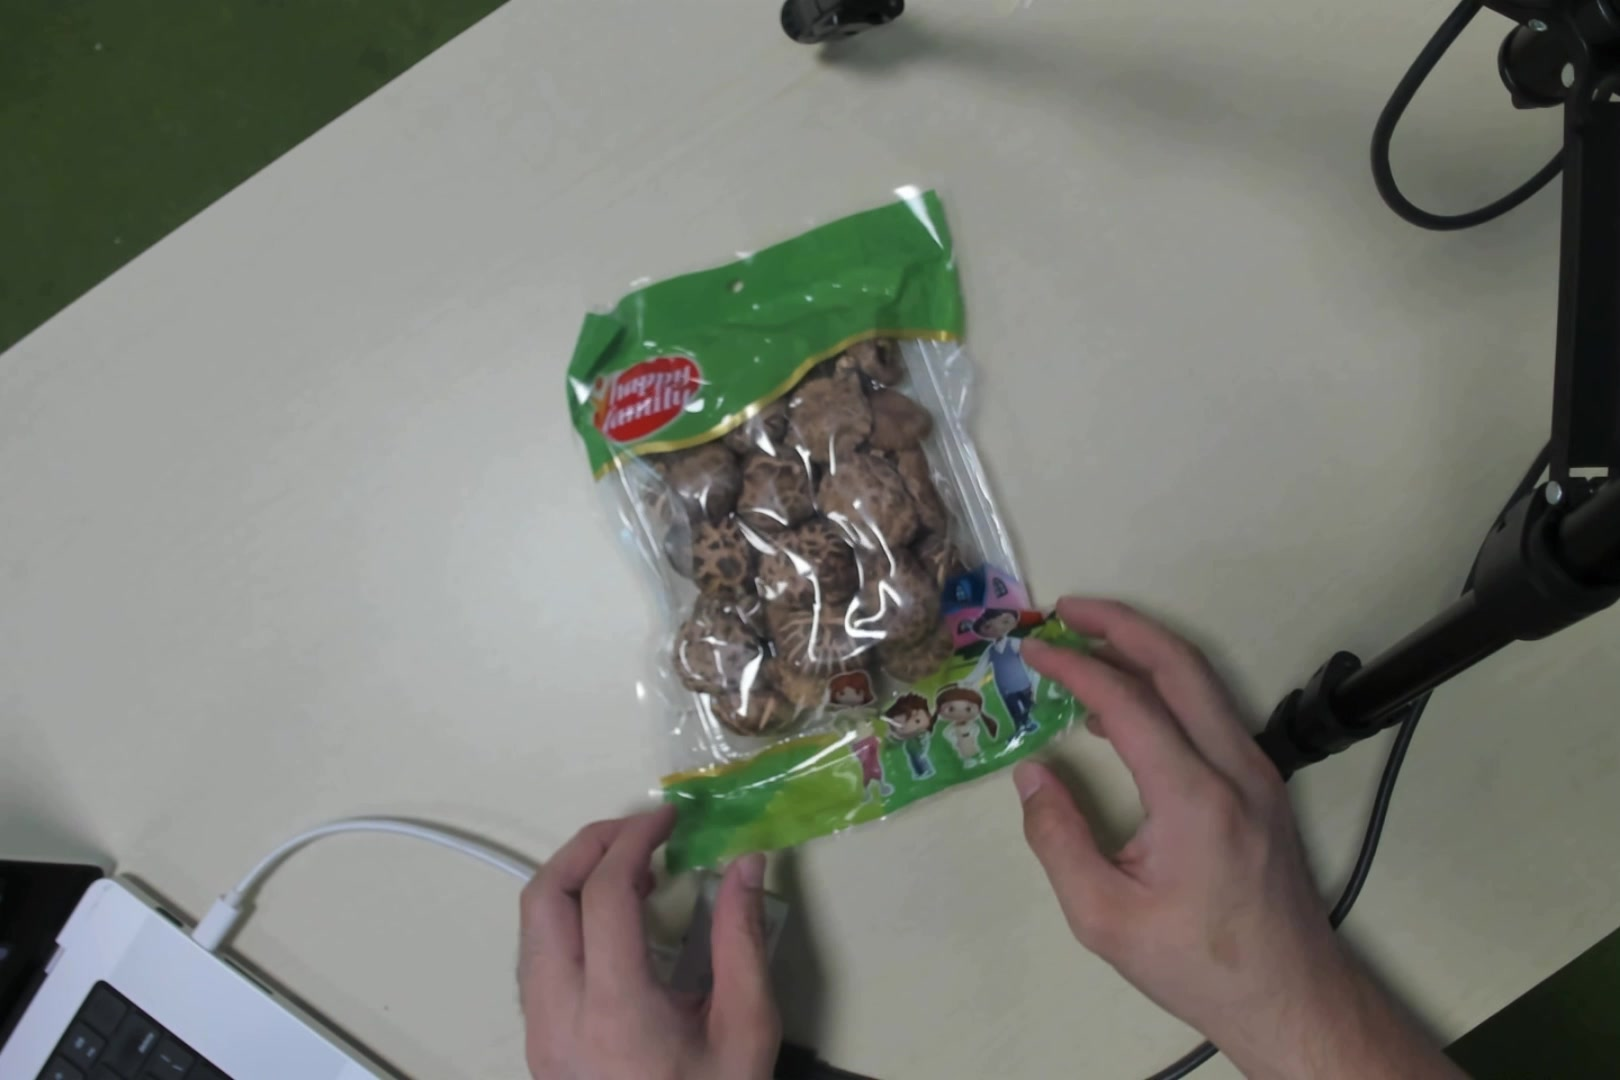OtherDriedFood_100-199g_NonHalal_NonHealthy: (611, 250, 1025, 815)
